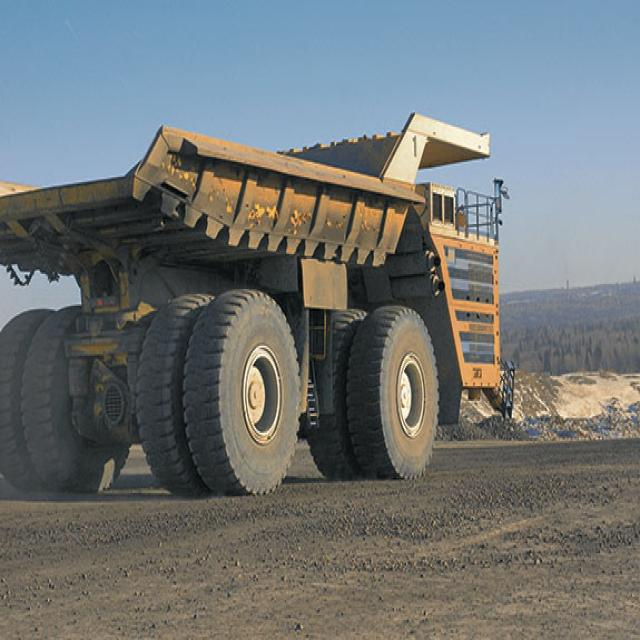dump_truck: (0, 82, 516, 502)
